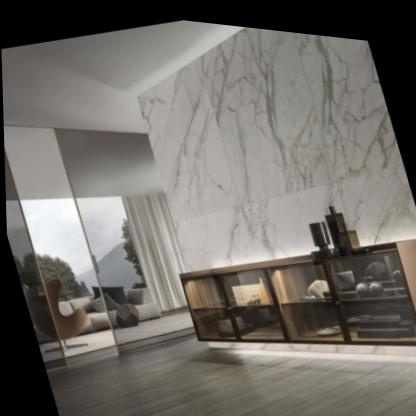Cupboard: (177, 229, 416, 342)
